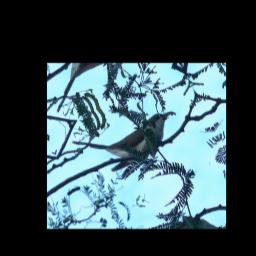Cuckoo: (68, 90, 188, 193)
